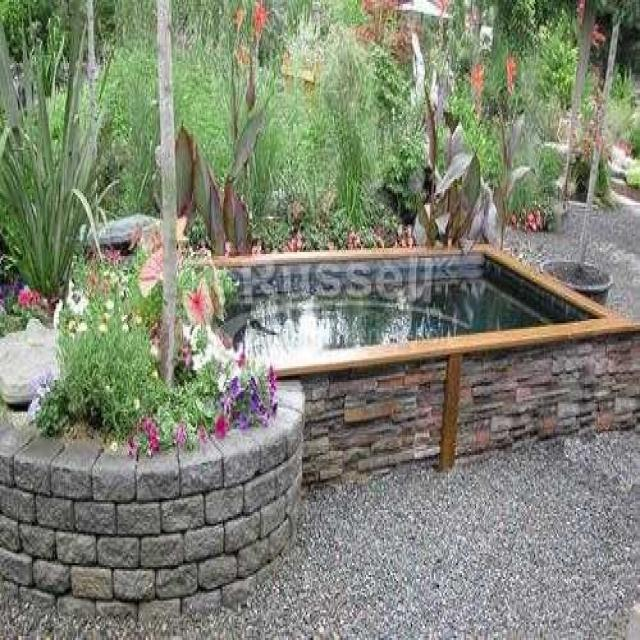Ponds: (215, 283, 551, 365)
